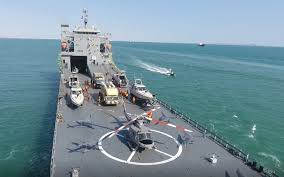maybay_muctieu: (112, 101, 163, 161)
tau_muctieu: (54, 20, 265, 177)
